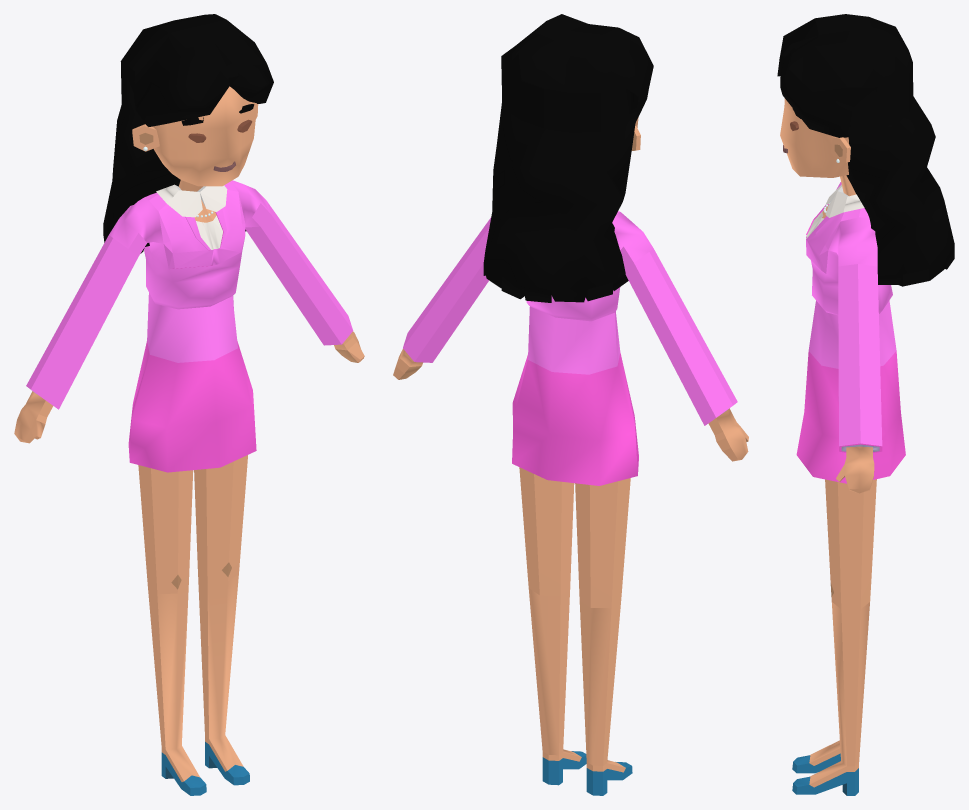
File: Jess.glb
3 views of the same model, side by side, from view 1: azimuth 30°, elevation 25°; view 2: azimuth 150°, elevation 25°; view 3: azimuth 270°, elevation 25° (orthographic).
Parts seen in each view (by area): view 1: body.001; view 2: body.001; view 3: body.001.
Part boxes in pixels (x1,y1,x2,y2): body.001: [14, 14, 364, 795]; body.001: [393, 14, 748, 795]; body.001: [777, 14, 954, 795].
Size of the model in its own units: 2.02 by 4.18 by 0.8885.
Materials: 3 (3 with a texture image).
